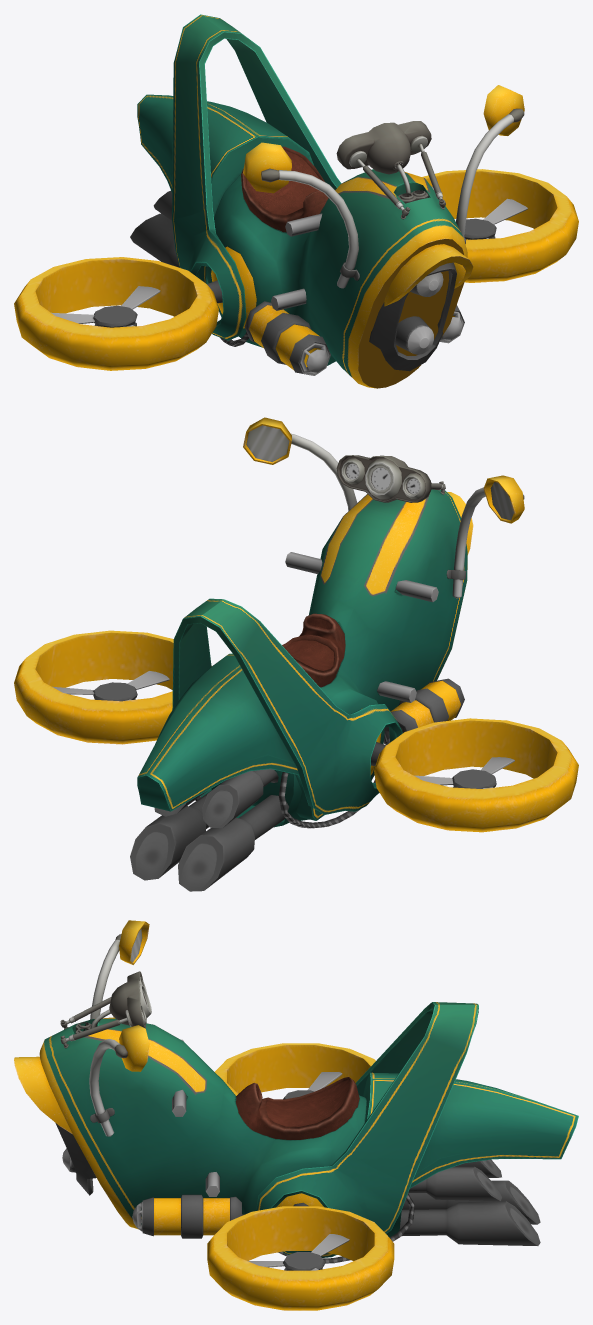
Rendered from motor lv4.fbx.
3 renders of one model, top to bottom at view 1: azimuth 30°, elevation 25°; view 2: azimuth 150°, elevation 25°; view 3: azimuth 270°, elevation 25°, orthographic. The views are drawn at different scales.
Parts seen in each view (by area): view 1: motor_lv4_1, fan_2, fan_1; view 2: motor_lv4_1, fan_1, fan_2; view 3: motor_lv4_1, fan_1, fan_2.
Part boxes in pixels (x1,y1,x2,y2): motor_lv4_1: (14,14,578,388); fan_2: (51,286,160,327); fan_1: (464,198,527,239); motor_lv4_1: (14,417,578,891); fan_1: (52,671,169,701); fan_2: (414,757,514,788); motor_lv4_1: (14,920,578,1310); fan_1: (247,1234,349,1270); fan_2: (283,1072,342,1099).
Size of the model in its own units: 5.22 by 2.79 by 5.15.
Materials: 1 (1 with a texture image).
